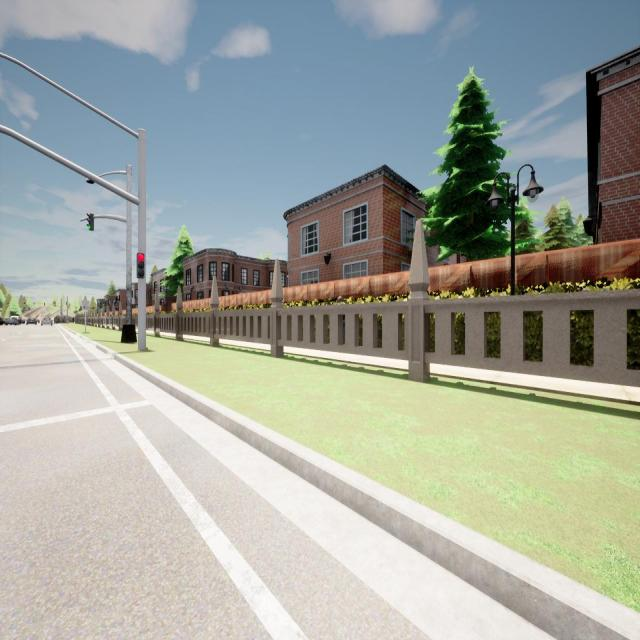Traffic_Signs: (82, 300, 89, 310)
Vehicle: (54, 315, 74, 323), (5, 318, 21, 325), (41, 316, 52, 326), (26, 318, 37, 326), (10, 316, 20, 319)
traffic_light: (136, 252, 144, 279), (86, 213, 94, 231), (44, 303, 45, 305), (34, 302, 34, 306)
